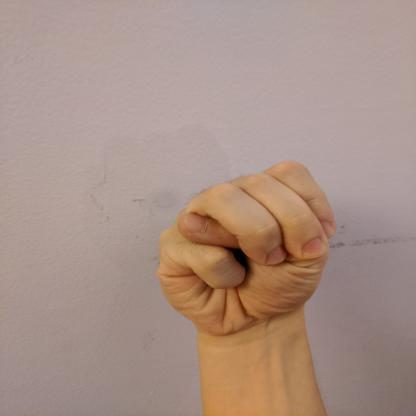M: (152, 157, 340, 340)
